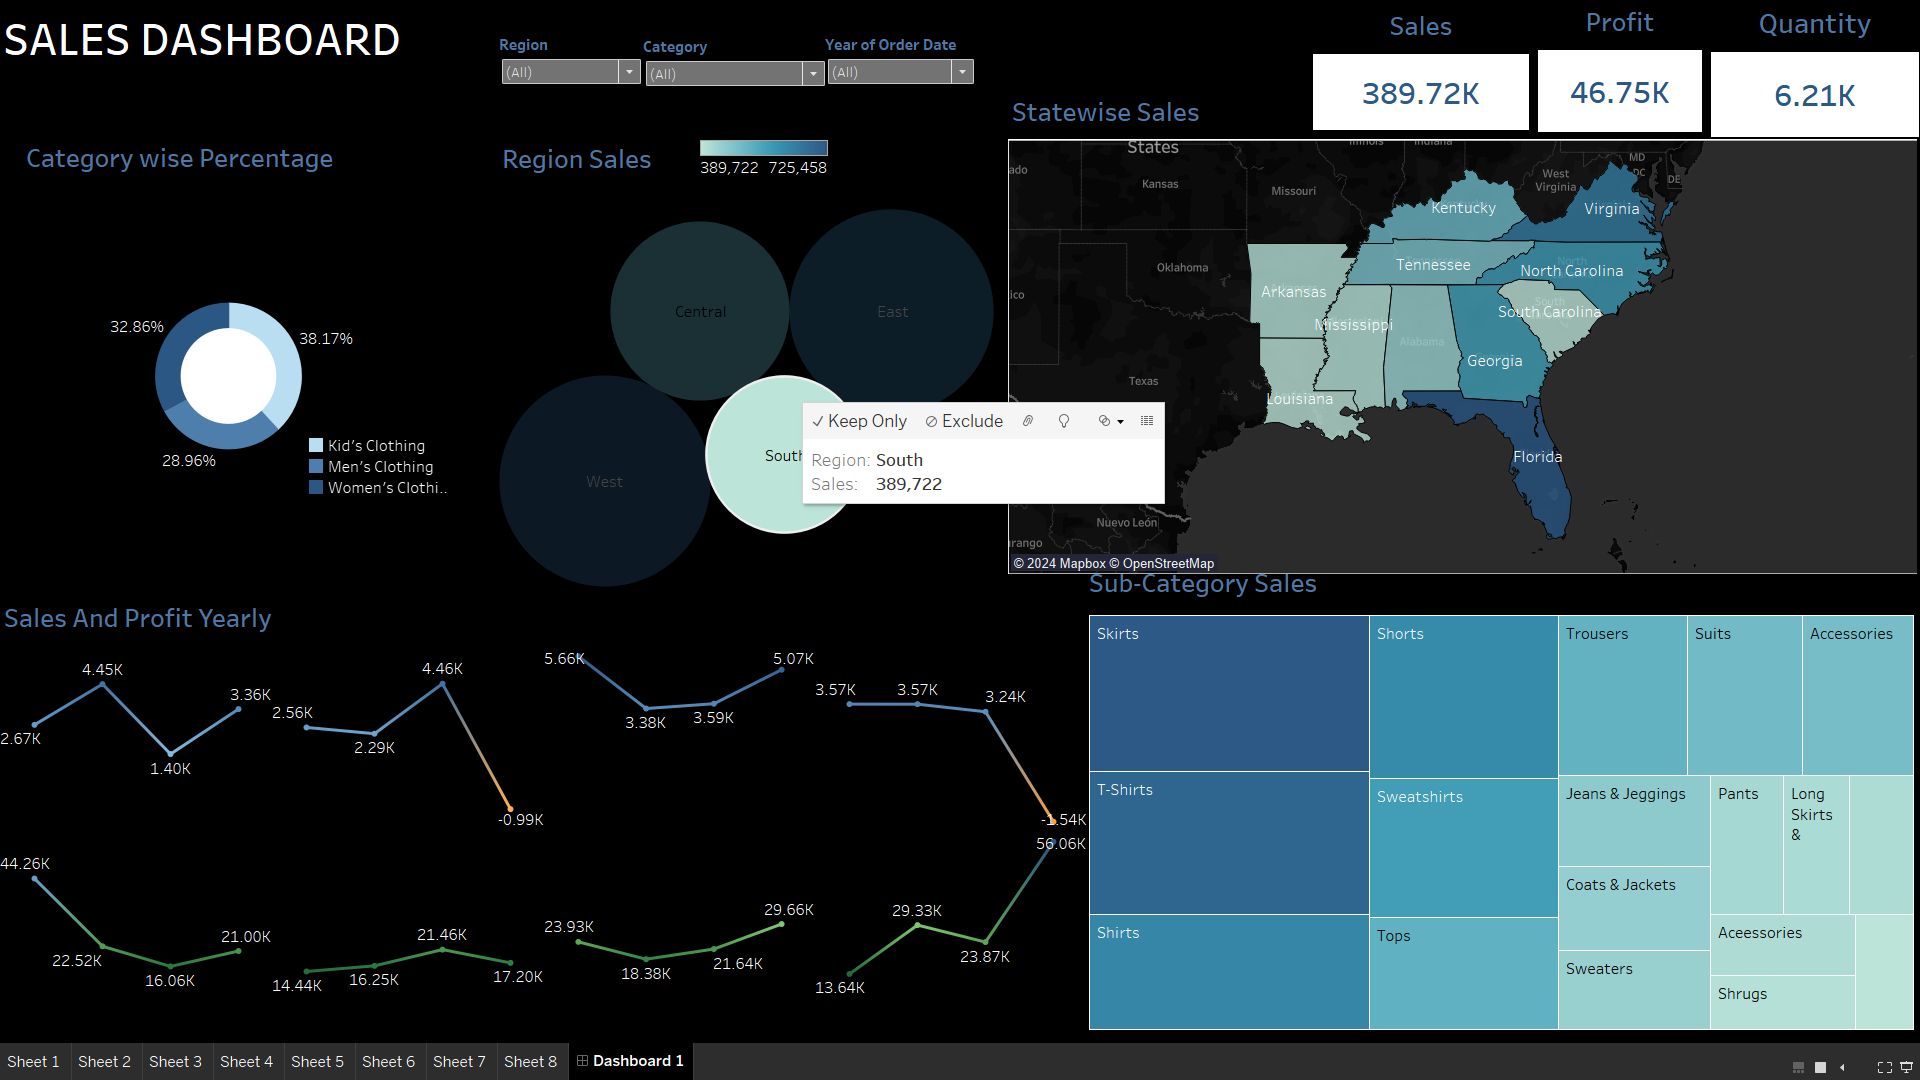

This screenshot's page, from the dashboard's own definition file:
{"tool":"tableau","page":{"name":"Dashboard 1","canvas":[1000,1000],"units":"permille","ordinal":0},"visuals":[{"type":"blank","box":[0,0,1000,1000]},{"type":"worksheet","title":"Sheet 3","mark":"Automatic","box":[801.2,0,85.3,126.1]},{"type":"worksheet","title":"Sheet 4","mark":"Automatic","box":[891.1,0,108.2,131.6]},{"type":"worksheet","title":"Sheet 2","mark":"Automatic","box":[683.9,3.7,112.7,120.7]},{"type":"text","box":[0,5.9,245,59.9]},{"type":"filter","title":"Sheet 3","param":"[federated.02s150b0oq98tg15a1gx214efzrz].[none:Region:nk]","box":[260.1,32.9,75.4,54.1]},{"type":"filter","title":"Sheet 8","param":"[federated.02s150b0oq98tg15a1gx214efzrz].[yr:Order Date:ok]","box":[429.6,32.9,78.9,50.5]},{"type":"filter","title":"Sheet 2","param":"[federated.02s150b0oq98tg15a1gx214efzrz].[none:Category:nk]","box":[334.9,34.1,96.6,51.7]},{"type":"worksheet","title":"Sheet 6","mark":"Automatic","box":[524.8,85.9,473.7,464.4]},{"type":"legend","title":"Sheet 1","param":"[federated.02s150b0oq98tg15a1gx214efzrz].[sum:Sales:qk]","box":[362.7,109.3,70.6,70.5]},{"type":"worksheet","title":"Sheet 7","mark":"Pie","rows":["Calculation_604326818627776520","Calculation_604326818627797002"],"box":[11.5,130.4,214.8,412.5]},{"type":"worksheet","title":"Sheet 1","mark":"Circle","box":[259.5,131.6,258.3,451.2]},{"type":"legend","title":"Sheet 7","param":"[federated.02s150b0oq98tg15a1gx214efzrz].[none:Category:nk]","box":[159.3,396,77.9,99.9]},{"type":"worksheet","title":"Sheet 5","mark":"Automatic","box":[564.9,538.2,433.3,453.6]},{"type":"worksheet","title":"Sheet 8","mark":"Automatic","rows":["Profit","Sales"],"cols":["Order Date","Order Date"],"box":[0,571.1,566.1,403.1]}]}

Visuals, with their boxes on the dashboard's canvas, which has no fixed pixel size, in thousandths of its width and height (x1, y1, x2, y2). These are canvas units, not pixel positions in the 1920x1080 screenshot, which may show the page scaled, cropped or inside an application window:
blank: l=0, t=0, r=1000, b=1000
"Sheet 3" worksheet: l=801, t=0, r=886, b=126
"Sheet 4" worksheet: l=891, t=0, r=999, b=132
"Sheet 2" worksheet: l=684, t=4, r=797, b=124
text: l=0, t=6, r=245, b=66
"Sheet 3" filter: l=260, t=33, r=336, b=87
"Sheet 8" filter: l=430, t=33, r=508, b=83
"Sheet 2" filter: l=335, t=34, r=432, b=86
"Sheet 6" worksheet: l=525, t=86, r=998, b=550
"Sheet 1" legend: l=363, t=109, r=433, b=180
"Sheet 7" worksheet (Pie marks): l=12, t=130, r=226, b=543
"Sheet 1" worksheet (Circle marks): l=260, t=132, r=518, b=583
"Sheet 7" legend: l=159, t=396, r=237, b=496
"Sheet 5" worksheet: l=565, t=538, r=998, b=992
"Sheet 8" worksheet: l=0, t=571, r=566, b=974
